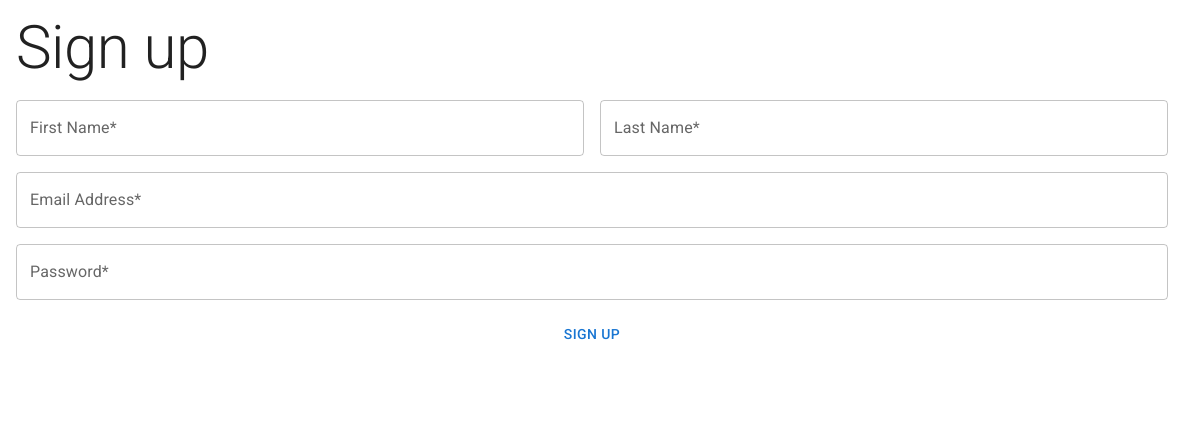
Test: template spec › should appear message of last name is required when last name is submitted empty
The width and height of the screenshot is (1185, 438).
Click the button with test id "signUpButton".
click(592, 335)  # box [16,316,1168,353]
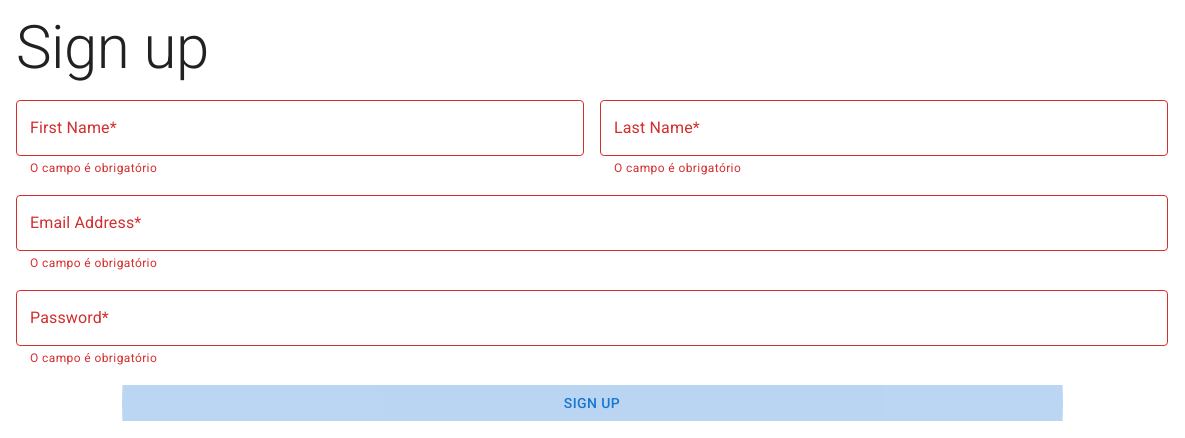
Now the text "O campo é obrigatório" below "Last Name*" is shown, box [614,161,741,175]
